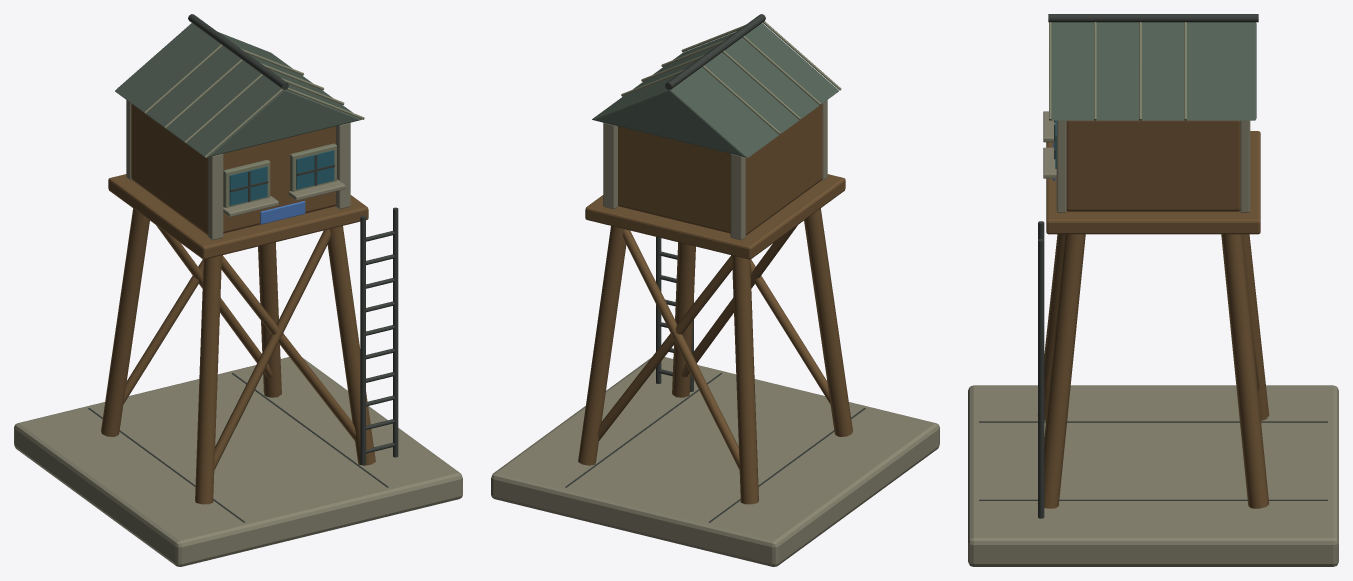
The model's file is watchtower.glb.
The picture shows the model from 3 angles, left to right: view 1: azimuth 30°, elevation 25°; view 2: azimuth 150°, elevation 25°; view 3: azimuth 270°, elevation 25°; orthographic projection. The views are drawn at different scales.
Visible parts, largest first — view 1: Concrete, Timber, RoofMetal, Steel, EdgeSteel, Optics, TeamColor; view 2: Concrete, Timber, RoofMetal, Steel, EdgeSteel; view 3: Concrete, Timber, RoofMetal, Steel, EdgeSteel.
Part boxes in pixels (left/top/right/bottom): Concrete: left=14, top=100, right=462, bottom=566; Timber: left=101, top=103, right=375, bottom=504; RoofMetal: left=115, top=23, right=361, bottom=157; Steel: left=88, top=14, right=398, bottom=522; EdgeSteel: left=144, top=44, right=364, bottom=207; Optics: left=229, top=150, right=334, bottom=205; TeamColor: left=260, top=201, right=305, bottom=224; Concrete: left=491, top=100, right=939, bottom=566; Timber: left=578, top=103, right=852, bottom=504; RoofMetal: left=592, top=23, right=838, bottom=157; Steel: left=565, top=14, right=865, bottom=522; EdgeSteel: left=621, top=21, right=841, bottom=134; Concrete: left=968, top=111, right=1338, bottom=566; Timber: left=1037, top=120, right=1269, bottom=508; RoofMetal: left=1051, top=22, right=1256, bottom=120; Steel: left=979, top=14, right=1327, bottom=518; EdgeSteel: left=1049, top=22, right=1186, bottom=120.
Size of the model in its own units: 3.7 by 5.25 by 3.7.
